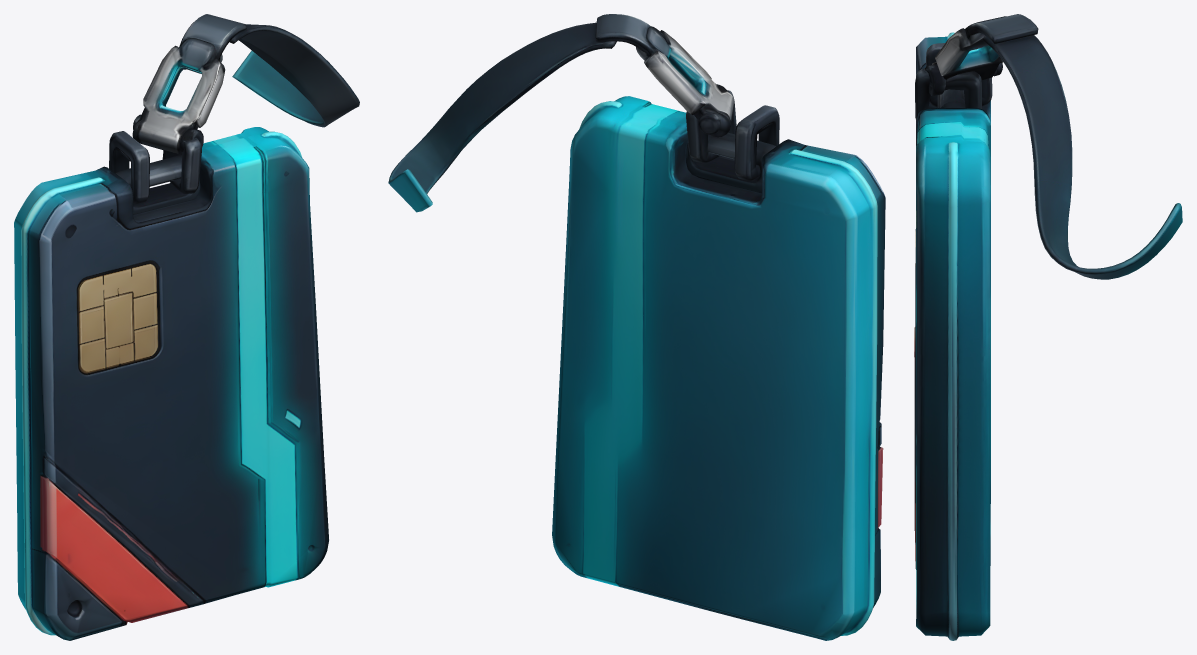
File: key_item.fbx
The picture shows the model from 3 angles, left to right: view 1: azimuth 30°, elevation 25°; view 2: azimuth 150°, elevation 25°; view 3: azimuth 270°, elevation 25°; orthographic projection. The views are drawn at different scales.
Visible parts, largest first — view 1: key_item; view 2: key_item; view 3: key_item.
Boxes of the visible parts, x1,y1,x2,y2 form: key_item: (14, 14, 359, 640); key_item: (388, 14, 885, 640); key_item: (914, 14, 1182, 640).
Size of the model in its own units: 0.5647 by 0.76 by 0.31.
